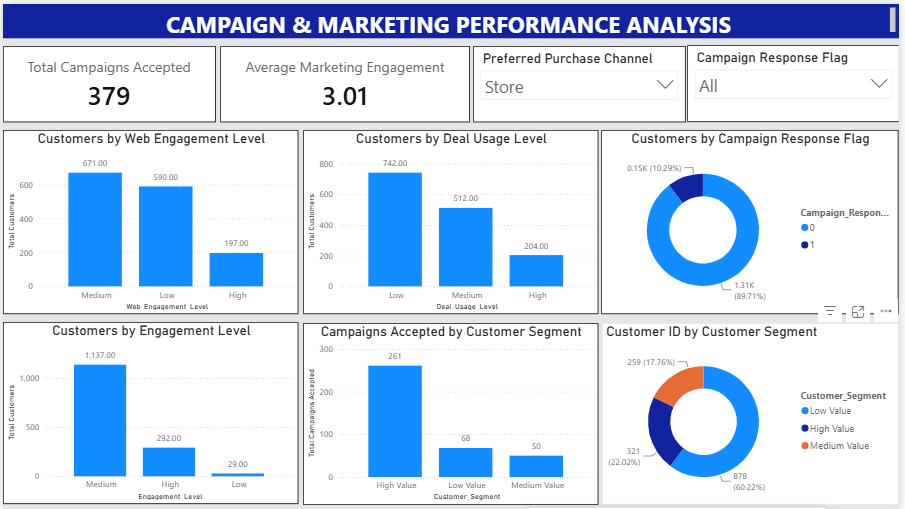

The page's visual inventory and layout, read from the dashboard file:
{"tool":"powerbi","page":{"name":"CAMPAIGN & MARKETING PERFORMANCE ANALYSIS","canvas":[1280,720],"ordinal":2},"visuals":[{"type":"textbox","box":[0,0,1280,48.6],"z":0},{"type":"cardVisual","fields":{"Data":["Food_Marketing_Analytics.Total Campaigns Accepted"]},"box":[0,59.8,303.5,108.8],"z":1},{"type":"cardVisual","fields":{"Data":["Food_Marketing_Analytics.Average Marketing Engagement"]},"box":[309.7,59.8,357.2,108.8],"z":2},{"type":"clusteredColumnChart","title":"Customers by Web Engagement Level","fields":{"Y":["Food_Marketing_Analytics.Total Customers"],"Category":["Food_Marketing_Analytics.Web_Engagement_Level"]},"box":[0,179.5,422.3,263.4],"z":3},{"type":"clusteredColumnChart","title":"Customers by Deal  Usage Level","fields":{"Y":["Food_Marketing_Analytics.Total Customers"],"Category":["Food_Marketing_Analytics.Deal_Usage_Level"]},"box":[428.1,179.5,422.3,263.4],"z":4},{"type":"donutChart","title":"Customers by Campaign Response Flag","fields":{"Y":["Food_Marketing_Analytics.Total Customers"],"Category":["Food_Marketing_Analytics.Campaign_Response_Flag"]},"box":[854.8,179.5,425.2,263.4],"z":5},{"type":"clusteredColumnChart","title":"Customers by Engagement Level","fields":{"Y":["Food_Marketing_Analytics.Total Customers"],"Category":["Food_Marketing_Analytics.Engagement_Level"]},"box":[0,454.6,422.3,260.4],"z":6},{"type":"clusteredColumnChart","title":"Campaigns Accepted by Customer Segment","fields":{"Category":["Food_Marketing_Analytics.Customer_Segment"],"Y":["Food_Marketing_Analytics.Total Campaigns Accepted"]},"box":[428,455,422,260],"z":7},{"type":"donutChart","title":"Customer ID by Customer Segment","fields":{"Category":["Food_Marketing_Analytics.Customer_Segment"],"Y":["CountNonNull(Food_Marketing_Analytics.Customer_ID)"]},"box":[855,455,425,260],"z":8},{"type":"slicer","fields":{"Values":["Food_Marketing_Analytics.Preferred_Purchase_Channel"]},"box":[671.4,59.8,303.5,108.8],"z":9},{"type":"slicer","fields":{"Values":["Food_Marketing_Analytics.Campaign_Response_Flag"]},"box":[976.5,58.3,303.5,110.4],"z":10}]}

Visuals, with their boxes in screenshot pixels (x1, y1, x2, y2), scaled from the page's 1280x720 canvas onto the 905x509 screenshot:
textbox: {"x1": 0, "y1": 0, "x2": 904, "y2": 34}
cardVisual - Food_Marketing_Analytics.Total Campaigns Accepted: {"x1": 0, "y1": 42, "x2": 215, "y2": 119}
cardVisual - Food_Marketing_Analytics.Average Marketing Engagement: {"x1": 219, "y1": 42, "x2": 472, "y2": 119}
"Customers by Web Engagement Level" clusteredColumnChart: {"x1": 0, "y1": 127, "x2": 299, "y2": 313}
"Customers by Deal  Usage Level" clusteredColumnChart: {"x1": 303, "y1": 127, "x2": 601, "y2": 313}
"Customers by Campaign Response Flag" donutChart: {"x1": 604, "y1": 127, "x2": 904, "y2": 313}
"Customers by Engagement Level" clusteredColumnChart: {"x1": 0, "y1": 321, "x2": 299, "y2": 505}
"Campaigns Accepted by Customer Segment" clusteredColumnChart: {"x1": 303, "y1": 322, "x2": 601, "y2": 505}
"Customer ID by Customer Segment" donutChart: {"x1": 605, "y1": 322, "x2": 904, "y2": 505}
slicer - Food_Marketing_Analytics.Preferred_Purchase_Channel: {"x1": 475, "y1": 42, "x2": 689, "y2": 119}
slicer - Food_Marketing_Analytics.Campaign_Response_Flag: {"x1": 690, "y1": 41, "x2": 904, "y2": 119}
